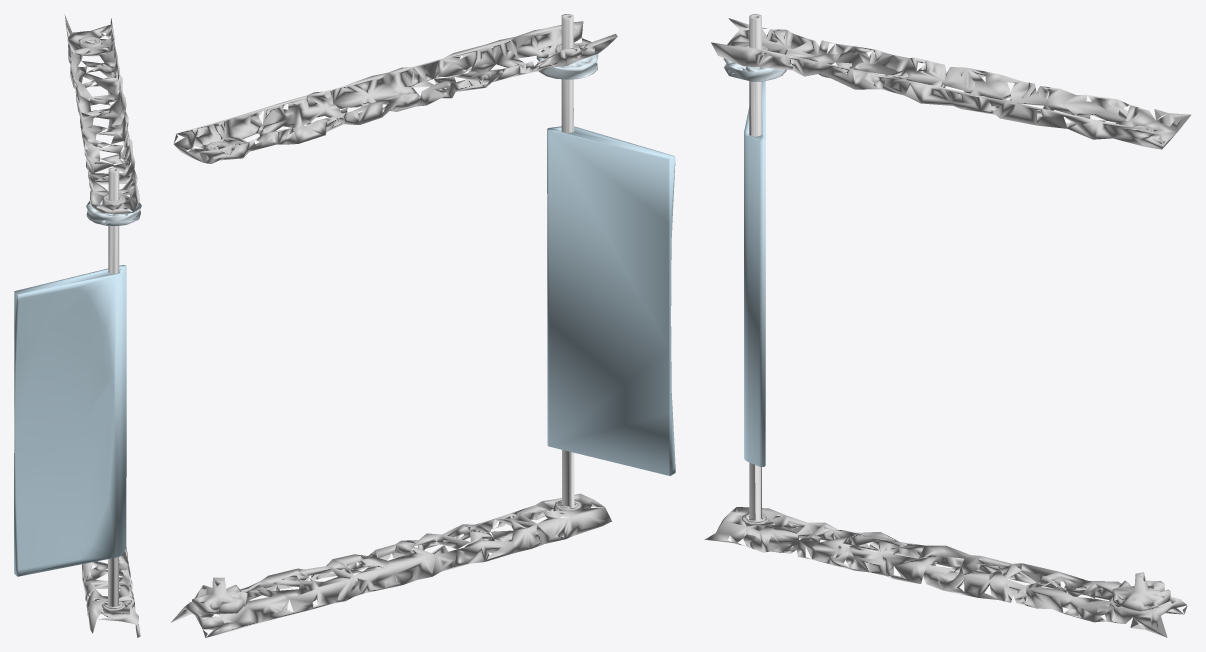
The picture shows the model from 3 angles, left to right: view 1: azimuth 30°, elevation 25°; view 2: azimuth 150°, elevation 25°; view 3: azimuth 270°, elevation 25°; orthographic projection. The views are drawn at different scales.
Visible parts, largest first — view 1: Part 4 <1>, 11 Hole Mini U-Channel (GB) <1>, 11 Hole Mini U-Channel (GB) <2>, 312mm Steel Shaft - 8mm REX (GB) <1>, 3400-0014-0032 <1>, 8x14x4mm Bearing <1>; view 2: Part 4 <1>, 11 Hole Mini U-Channel (GB) <1>, 11 Hole Mini U-Channel (GB) <2>, 312mm Steel Shaft - 8mm REX (GB) <1>, Servo Hub Shaft - 16mm (GB) <1>, 3400-0014-0032 <1>; view 3: 11 Hole Mini U-Channel (GB) <1>, 11 Hole Mini U-Channel (GB) <2>, Part 4 <1>, 312mm Steel Shaft - 8mm REX (GB) <1>, Servo Hub Shaft - 16mm (GB) <1>, 3400-0014-0032 <1>.
Boxes of the visible parts, bbox=[...] form: Part 4 <1>: bbox=[14, 265, 126, 576]; 11 Hole Mini U-Channel (GB) <1>: bbox=[64, 14, 139, 214]; 11 Hole Mini U-Channel (GB) <2>: bbox=[82, 547, 140, 637]; 312mm Steel Shaft - 8mm REX (GB) <1>: bbox=[103, 167, 123, 608]; 3400-0014-0032 <1>: bbox=[86, 196, 141, 225]; 8x14x4mm Bearing <1>: bbox=[79, 36, 101, 48]; Part 4 <1>: bbox=[547, 126, 675, 475]; 11 Hole Mini U-Channel (GB) <1>: bbox=[174, 21, 617, 163]; 11 Hole Mini U-Channel (GB) <2>: bbox=[171, 493, 611, 637]; 312mm Steel Shaft - 8mm REX (GB) <1>: bbox=[557, 14, 578, 508]; Servo Hub Shaft - 16mm (GB) <1>: bbox=[192, 577, 247, 614]; 3400-0014-0032 <1>: bbox=[536, 49, 598, 79]; 11 Hole Mini U-Channel (GB) <1>: bbox=[711, 18, 1191, 149]; 11 Hole Mini U-Channel (GB) <2>: bbox=[704, 507, 1187, 637]; Part 4 <1>: bbox=[744, 81, 765, 466]; 312mm Steel Shaft - 8mm REX (GB) <1>: bbox=[744, 14, 763, 522]; Servo Hub Shaft - 16mm (GB) <1>: bbox=[1112, 572, 1170, 611]; 3400-0014-0032 <1>: bbox=[723, 58, 786, 81].
Size of the model in its own units: 0.2022 by 0.3217 by 0.2718.
